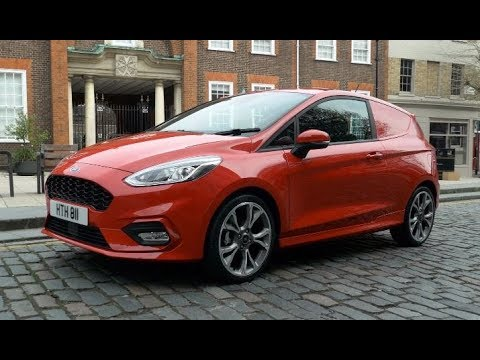sedan: (41, 86, 442, 285)
